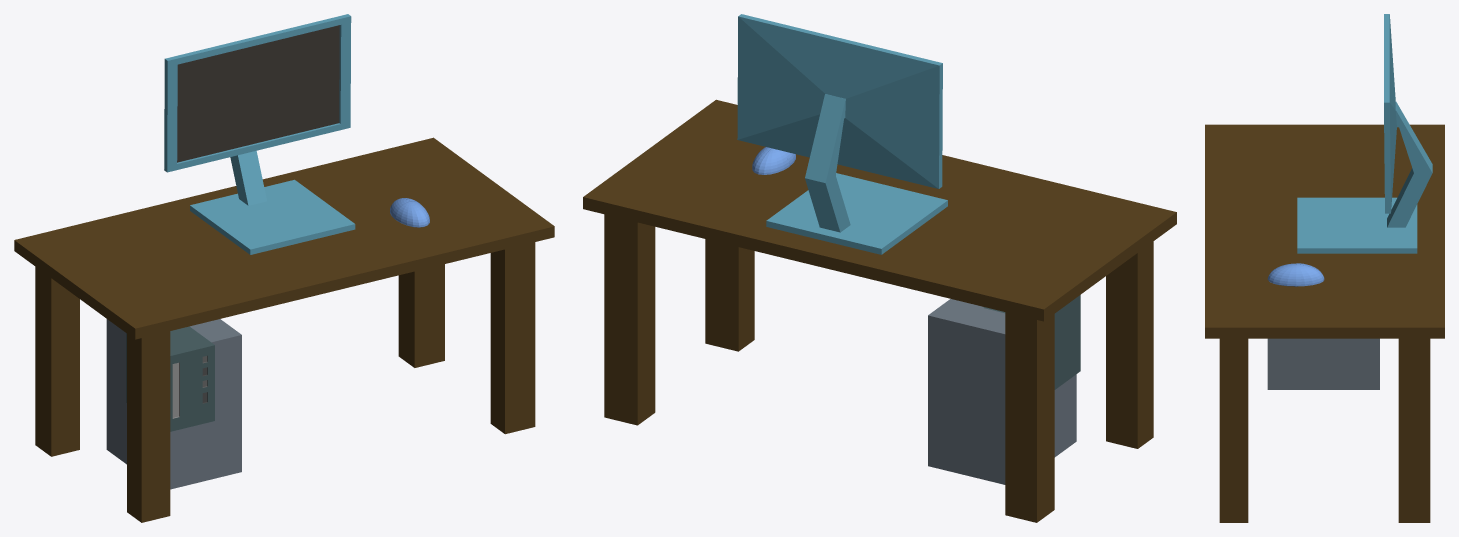
File: OfficeProps_SeamMarked.fbx
3 renders of one model, left to right at view 1: azimuth 30°, elevation 25°; view 2: azimuth 150°, elevation 25°; view 3: azimuth 270°, elevation 25°, orthographic. The views are drawn at different scales.
Visible parts, largest first — view 1: Computer_Desk, Monitor, PC, Mouse; view 2: Computer_Desk, Monitor, PC, Mouse; view 3: Computer_Desk, Monitor, PC, Mouse.
Boxes of the visible parts, box(x1,y1,x2,y2) form: Computer_Desk: box(14, 137, 554, 522); Monitor: box(164, 14, 355, 254); PC: box(106, 319, 241, 489); Mouse: box(390, 198, 429, 227); Computer_Desk: box(583, 99, 1176, 522); Monitor: box(737, 14, 947, 254); PC: box(928, 295, 1080, 484); Mouse: box(752, 147, 795, 174); Computer_Desk: box(1205, 124, 1444, 522); Monitor: box(1297, 14, 1432, 253); PC: box(1267, 338, 1379, 389); Mouse: box(1267, 263, 1324, 286).
Size of the model in its own units: 478 by 408 by 239.
